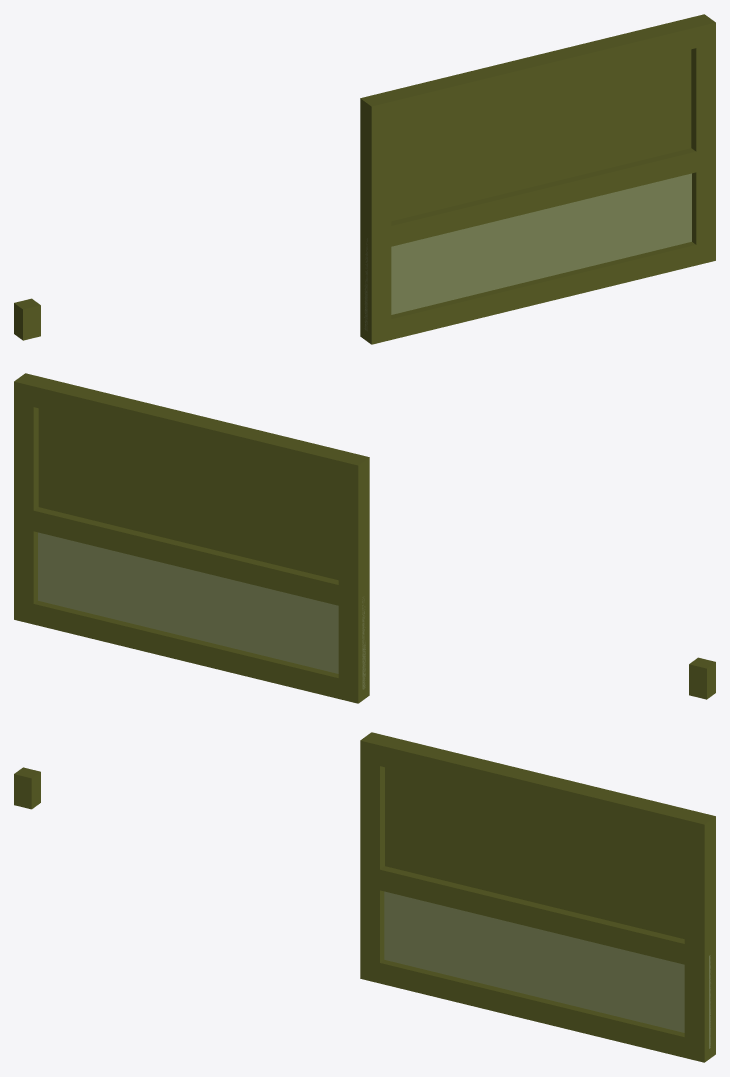
Rendered from SM_PuertaValla_v4_LOD1.fbx.
3 views of the same model, one above another, from view 1: azimuth 30°, elevation 25°; view 2: azimuth 150°, elevation 25°; view 3: azimuth 330°, elevation 25° (orthographic).
Parts seen in each view (by area): view 1: Hoja_E, Hoja_O; view 2: Hoja_E, Hoja_O; view 3: Hoja_E, Hoja_O.
Part boxes in pixels (x1=…): Hoja_E: x1=360, y1=14, x2=715, y2=344; Hoja_O: x1=14, y1=298, x2=40, y2=340; Hoja_E: x1=14, y1=373, x2=369, y2=703; Hoja_O: x1=689, y1=657, x2=715, y2=699; Hoja_E: x1=360, y1=732, x2=715, y2=1062; Hoja_O: x1=14, y1=767, x2=40, y2=809.
Size of what is drawn, in the model's own units: 6.99 by 2.3 by 0.2.
